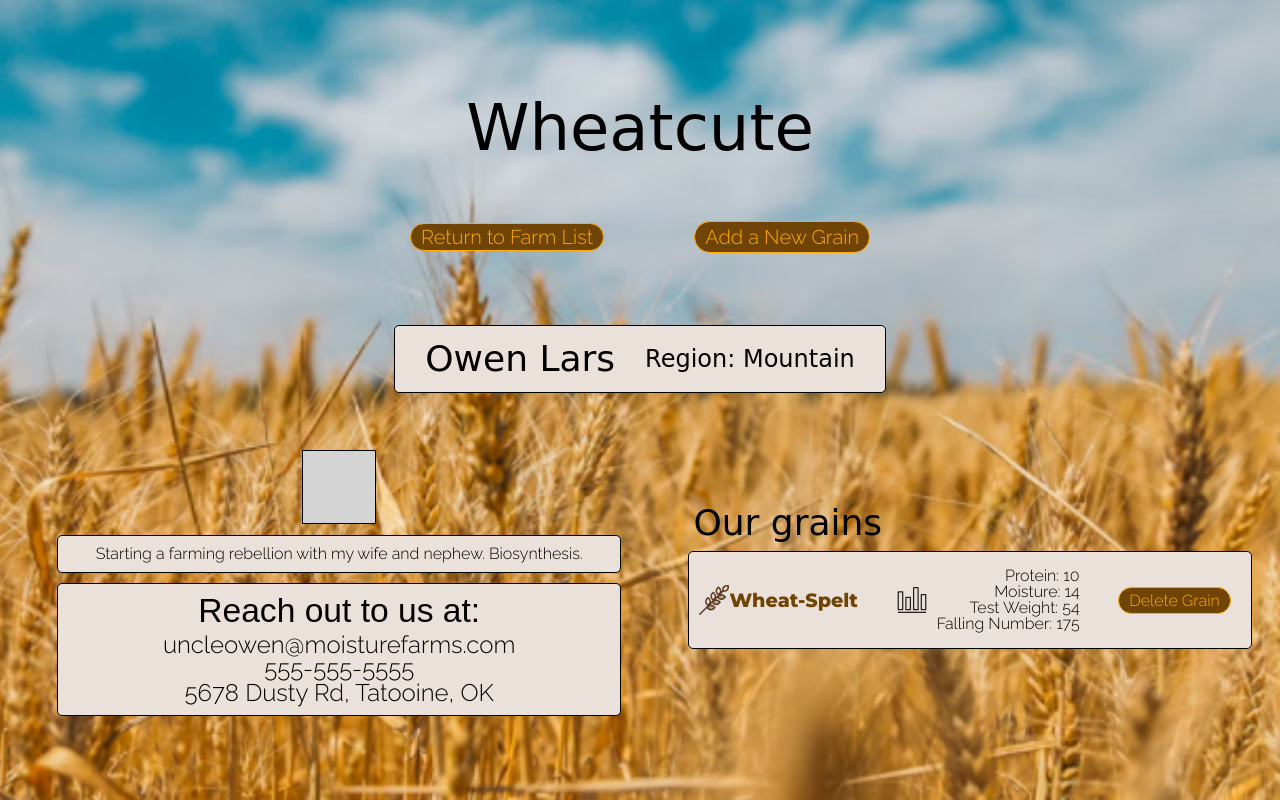
Scenario: navigation away from the farm update profile view › should navigate to back to the landing page if the site title is clicked
Expected: the element with class "farm-profile-container" is shown, x1=0 y1=312 x2=1279 y2=759
Click the heading "Wheatcute": coordinates (640, 128) x1=466 y1=96 x2=814 y2=160
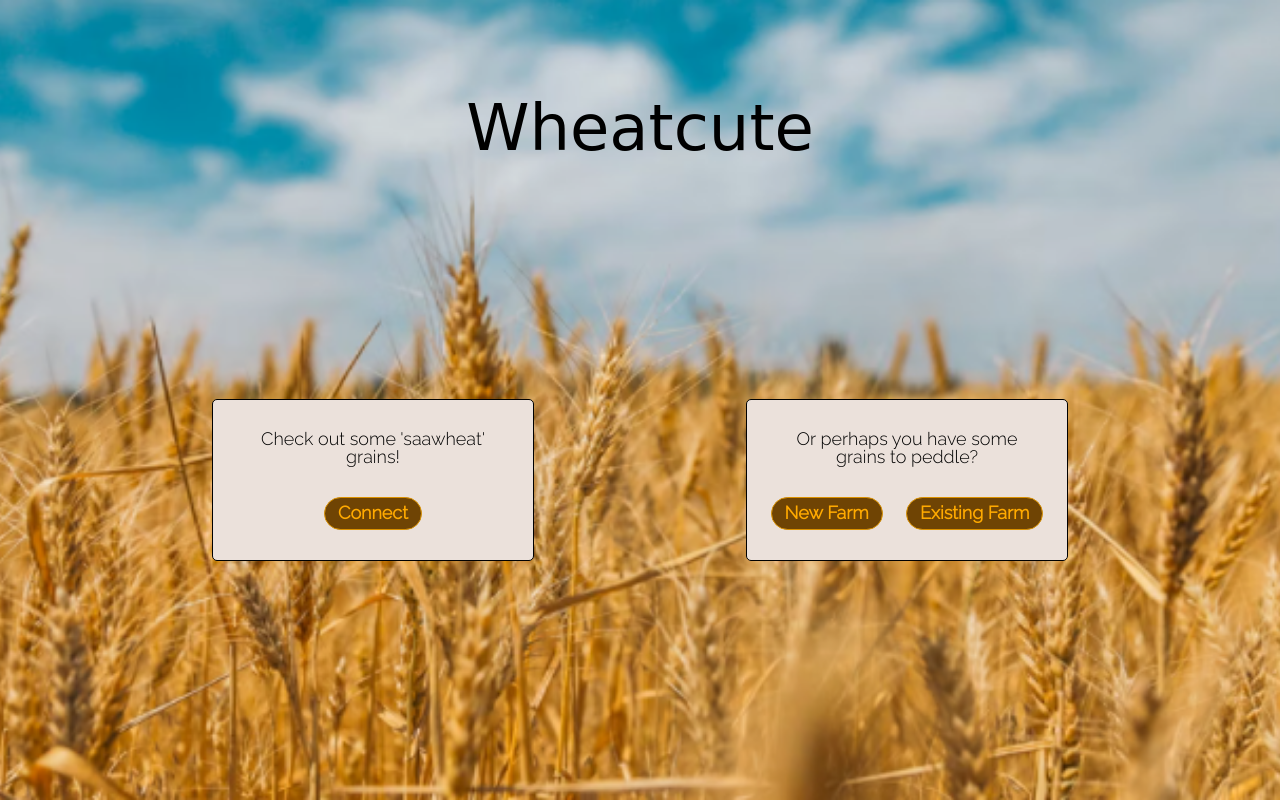
Result: the element with class "farm-profile-container" is gone
Result: the element with class "landing-container" is shown at x1=212 y1=399 x2=1068 y2=561
